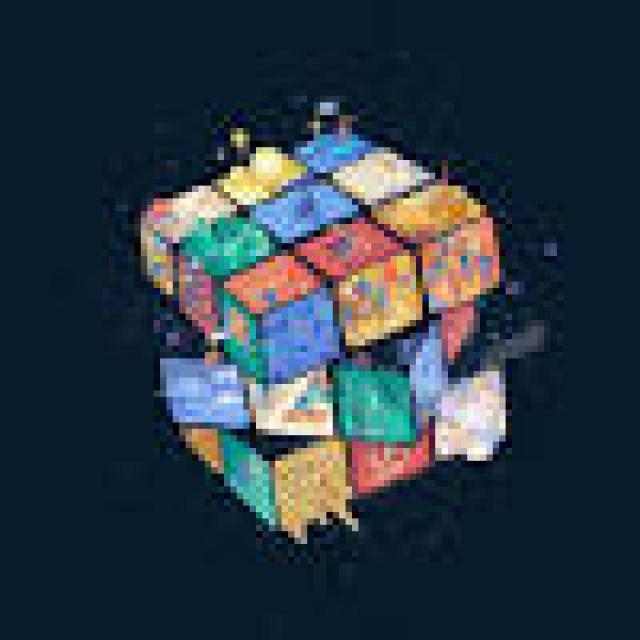Rub: (140, 132, 512, 529)
